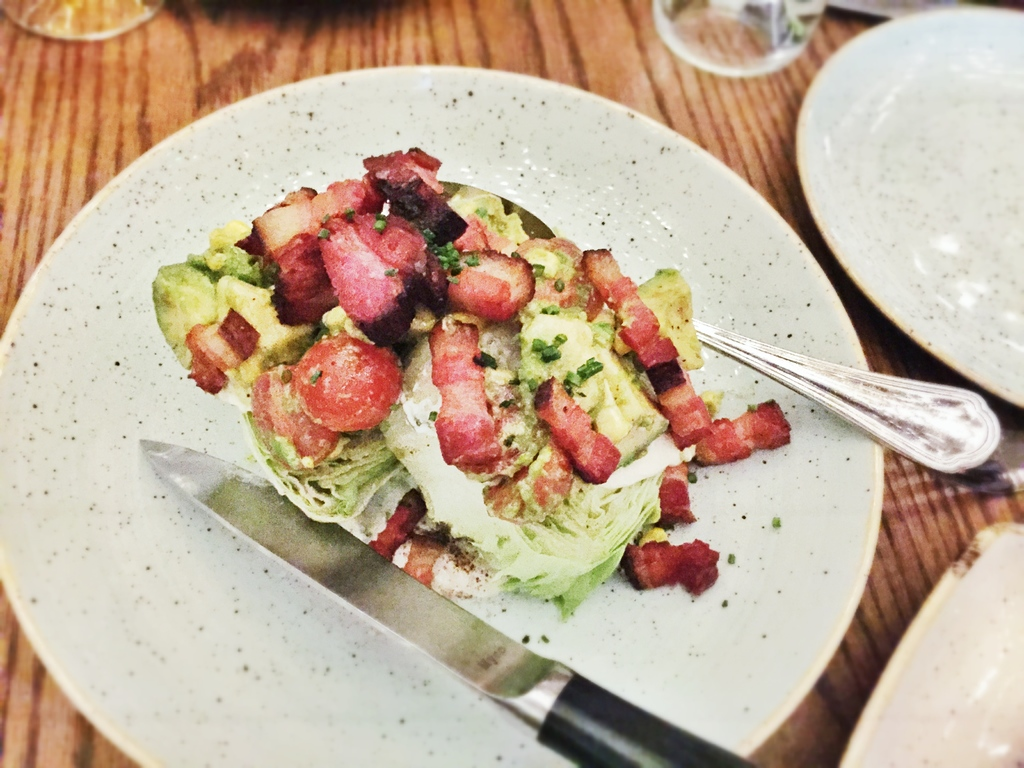salad: (143, 144, 794, 652)
